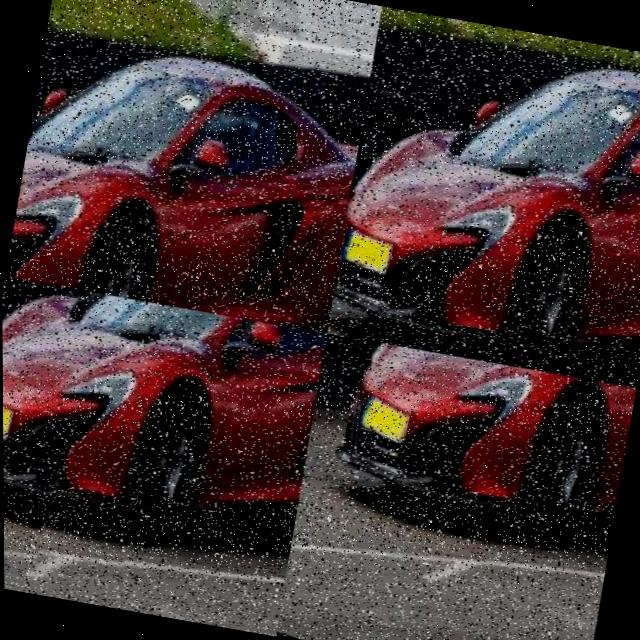LicensePlate: (37, 476, 137, 585), (360, 395, 409, 442)
